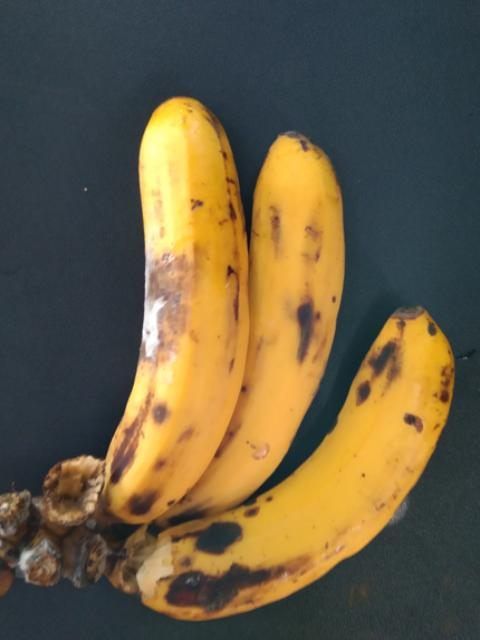overripe: (128, 292, 468, 628), (94, 52, 245, 518), (214, 101, 360, 499)
